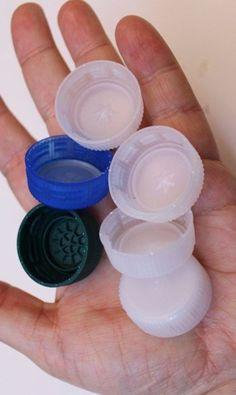HDPE: (110, 122, 205, 222), (54, 59, 144, 148), (117, 254, 213, 337), (100, 208, 198, 278), (16, 205, 98, 286), (25, 134, 111, 204)
